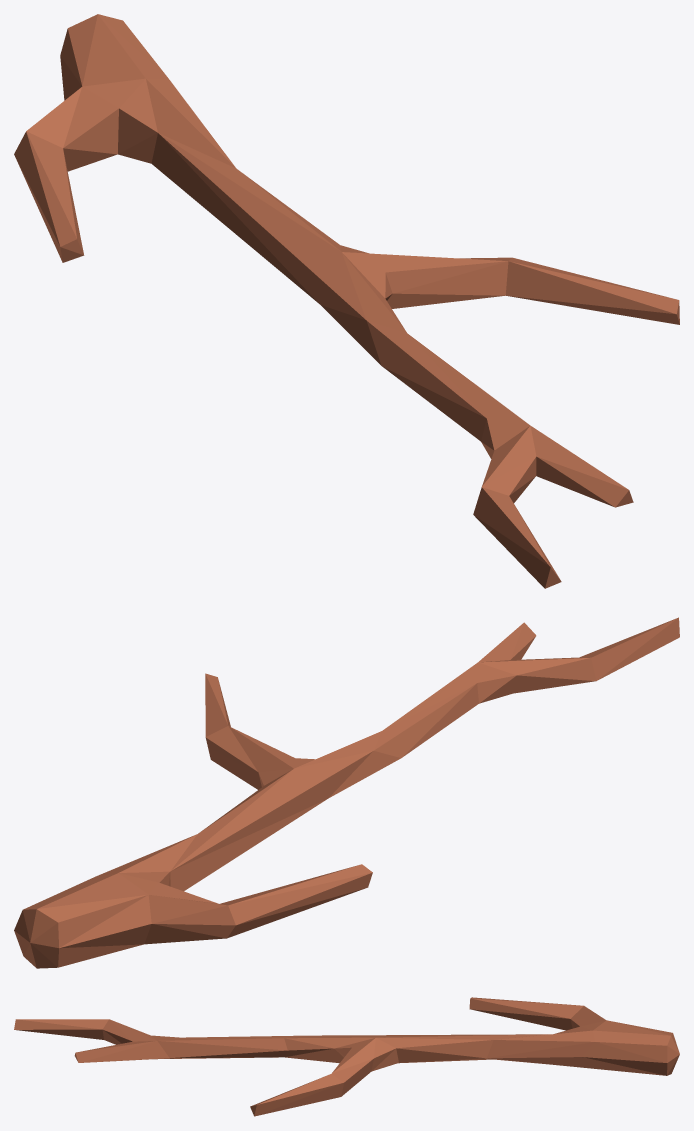
The model's file is Branch02.fbx.
3 views of the same model, one above another, from view 1: azimuth 30°, elevation 25°; view 2: azimuth 150°, elevation 25°; view 3: azimuth 270°, elevation 25° (orthographic). The views are drawn at different scales.
Parts seen in each view (by area): view 1: Branch_02; view 2: Branch_02; view 3: Branch_02.
Part boxes in pixels (x1=…): Branch_02: x1=14, y1=14, x2=679, y2=588; Branch_02: x1=14, y1=617, x2=679, y2=968; Branch_02: x1=14, y1=997, x2=679, y2=1116.
Bounding box in the file's own units: 62.65 × 11.28 × 167.
